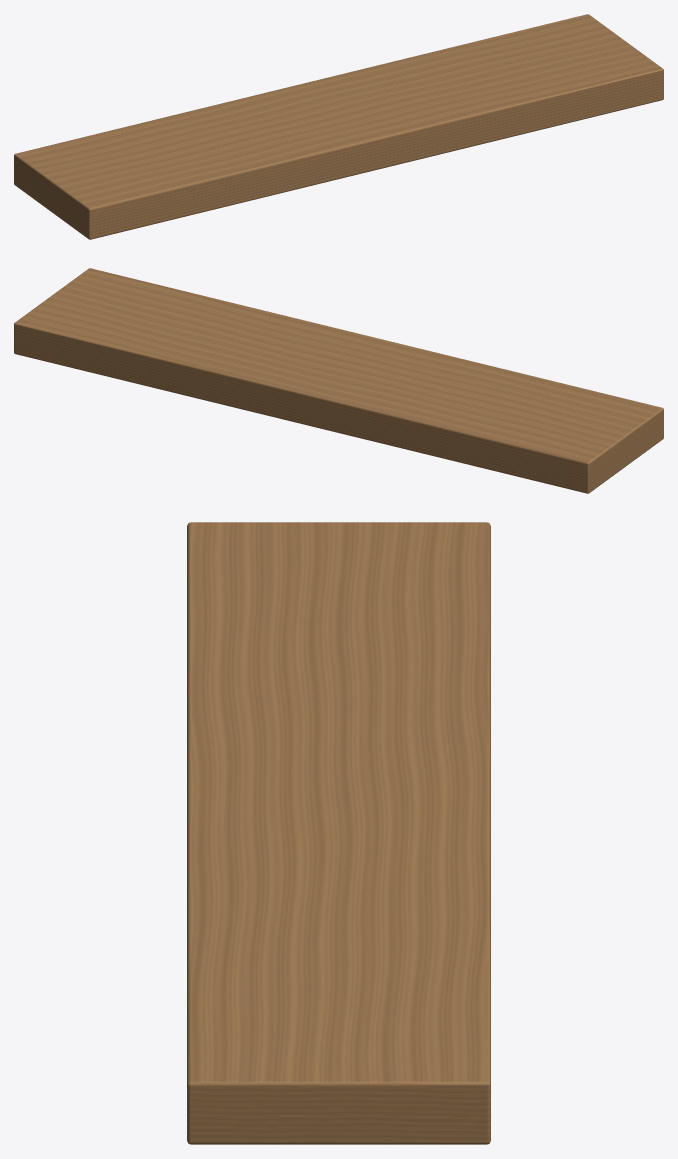
Rendered from prateleira_parede.glb.
The picture shows the model from 3 angles, top to bottom: view 1: azimuth 30°, elevation 25°; view 2: azimuth 150°, elevation 25°; view 3: azimuth 270°, elevation 25°; orthographic projection. The views are drawn at different scales.
Parts seen in each view (by area): view 1: prateleira_parede; view 2: prateleira_parede; view 3: prateleira_parede.
Boxes of the visible parts, x1=… form: prateleira_parede: x1=14, y1=14, x2=663, y2=239; prateleira_parede: x1=14, y1=268, x2=663, y2=493; prateleira_parede: x1=187, y1=522, x2=490, y2=1144.
Size of the model in its own units: 1.05 by 0.055 by 0.24.
Materials: 1 (1 with a texture image).
